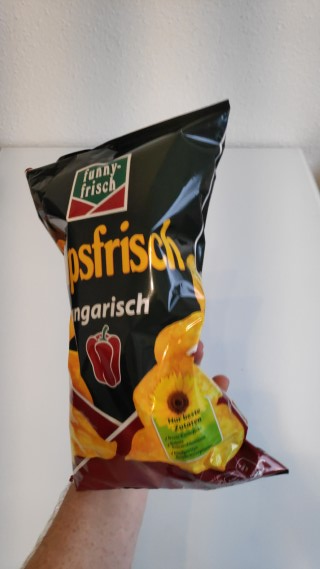chipsfrisch: (23, 96, 290, 491)
